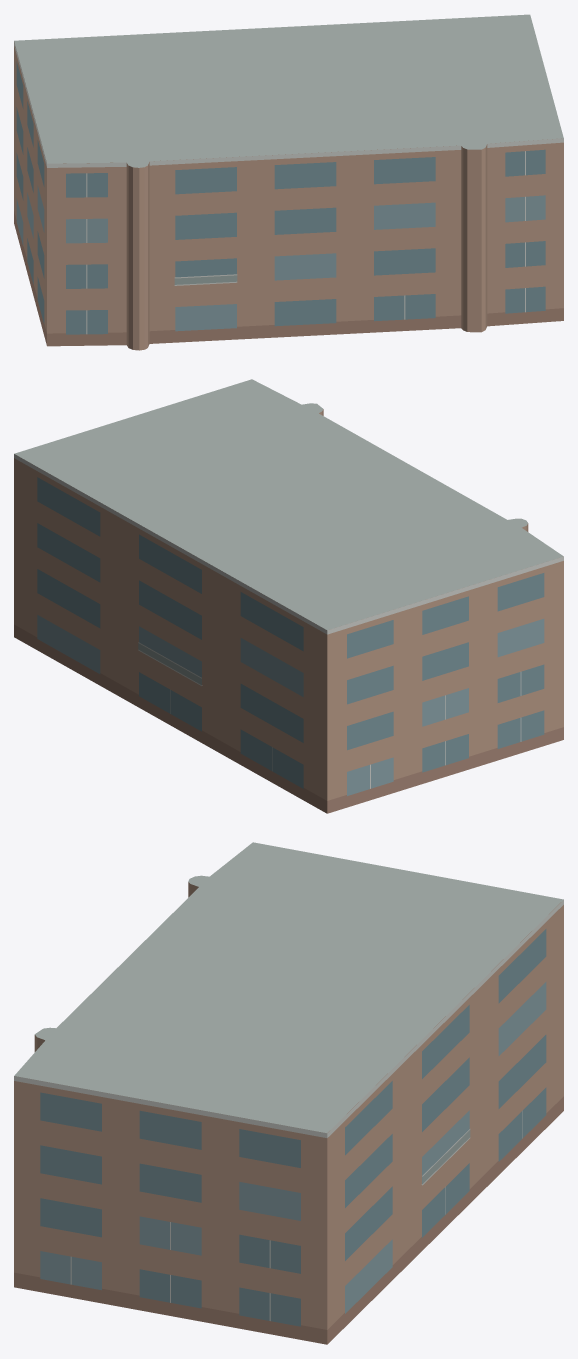
File: survey-upis-32489777.glb
The picture shows the model from 3 angles, top to bottom: view 1: azimuth 30°, elevation 25°; view 2: azimuth 150°, elevation 25°; view 3: azimuth 270°, elevation 25°; orthographic projection. The views are drawn at different scales.
Parts seen in each view (by area): view 1: survey-upis-32489777.tmp; view 2: survey-upis-32489777.tmp; view 3: survey-upis-32489777.tmp.
Boxes of the visible parts, left/top/right/bottom form: survey-upis-32489777.tmp: left=14, top=14, right=563, bottom=350; survey-upis-32489777.tmp: left=14, top=379, right=563, bottom=813; survey-upis-32489777.tmp: left=14, top=842, right=563, bottom=1344.
Bounding box in the file's own units: 30.72 × 10.4 × 24.53.
